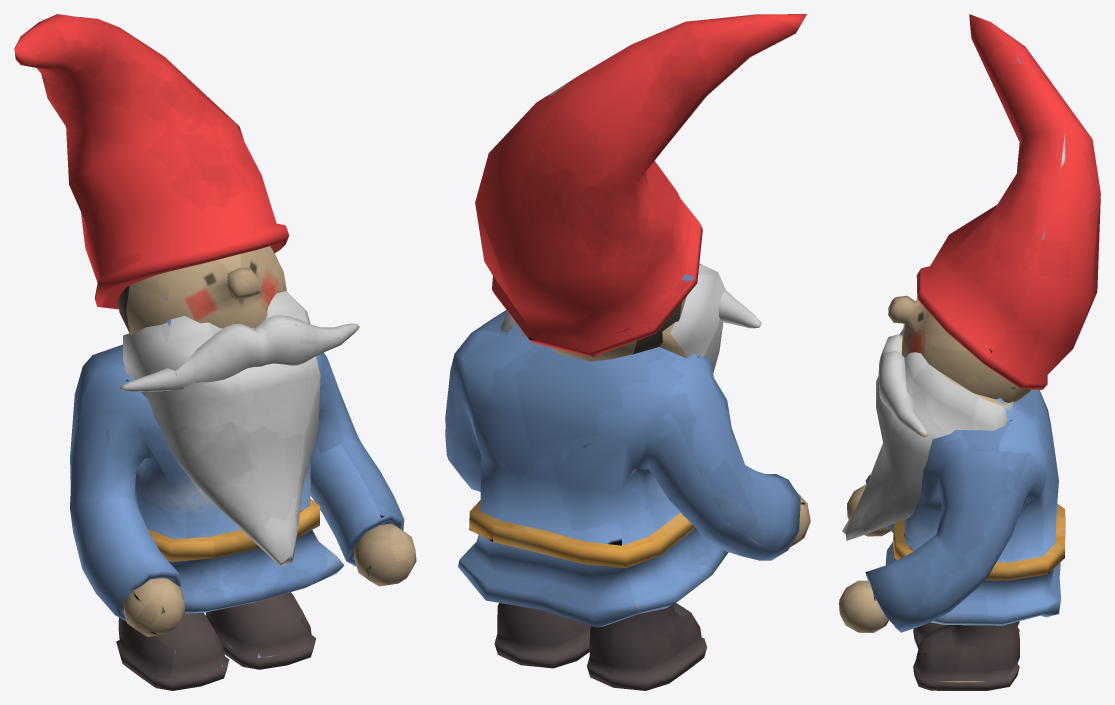
File: gnome_static.fbx
3 views of the same model, side by side, from view 1: azimuth 30°, elevation 25°; view 2: azimuth 150°, elevation 25°; view 3: azimuth 270°, elevation 25° (orthographic). The views are drawn at different scales.
Visible parts, largest first — view 1: polyfill1; view 2: polyfill1; view 3: polyfill1.
Part boxes in pixels (<box>): polyfill1: <box>14,14,416,690</box>; polyfill1: <box>445,14,810,690</box>; polyfill1: <box>839,14,1100,690</box>.
Size of the model in its own units: 59.67 by 108 by 45.53.
